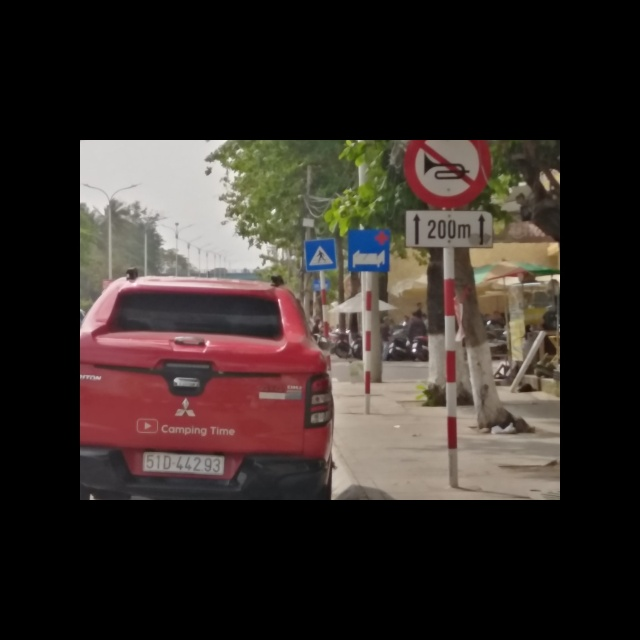Bệnh viện: (345, 228, 392, 275)
Cấm bấm còi: (401, 140, 492, 208)
Đường dành cho người đi bộ: (302, 239, 338, 273)
